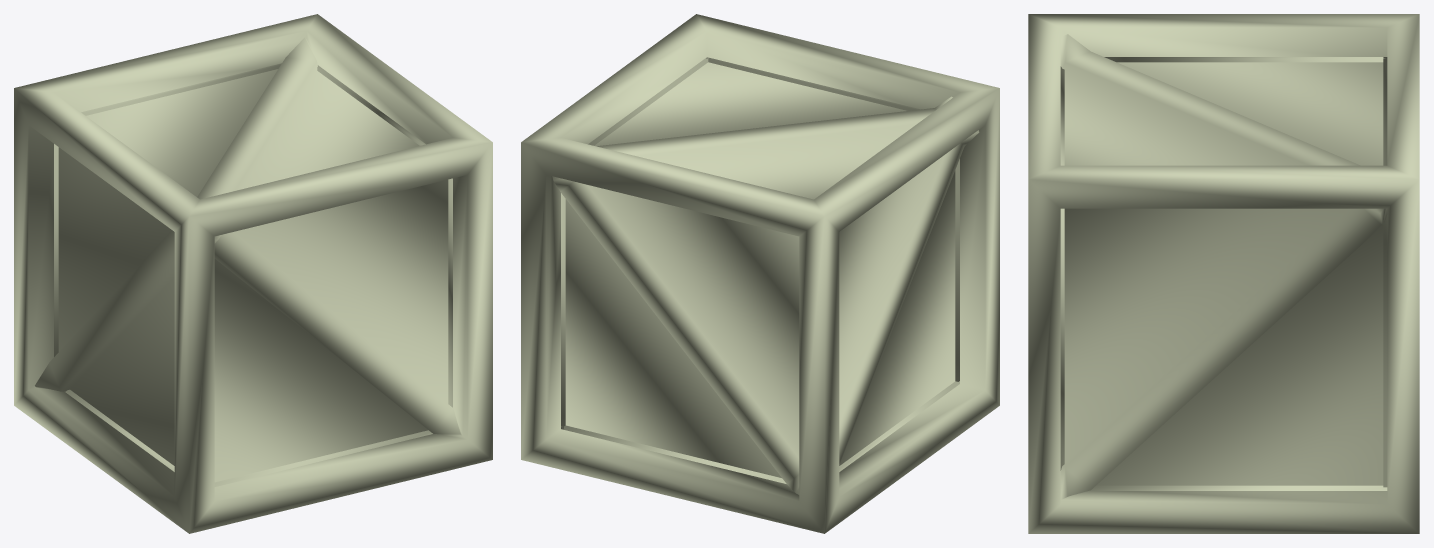
Rendered from woodcrate.obj.
The picture shows the model from 3 angles, left to right: view 1: azimuth 30°, elevation 25°; view 2: azimuth 150°, elevation 25°; view 3: azimuth 270°, elevation 25°; orthographic projection. The views are drawn at different scales.
Parts seen in each view (by area): view 1: Cube2; view 2: Cube2; view 3: Cube2.
Boxes of the visible parts, bbox=[...] form: Cube2: bbox=[14, 14, 492, 533]; Cube2: bbox=[521, 14, 999, 533]; Cube2: bbox=[1028, 14, 1419, 533].
Bounding box in the file's own units: 2 × 2 × 2.
